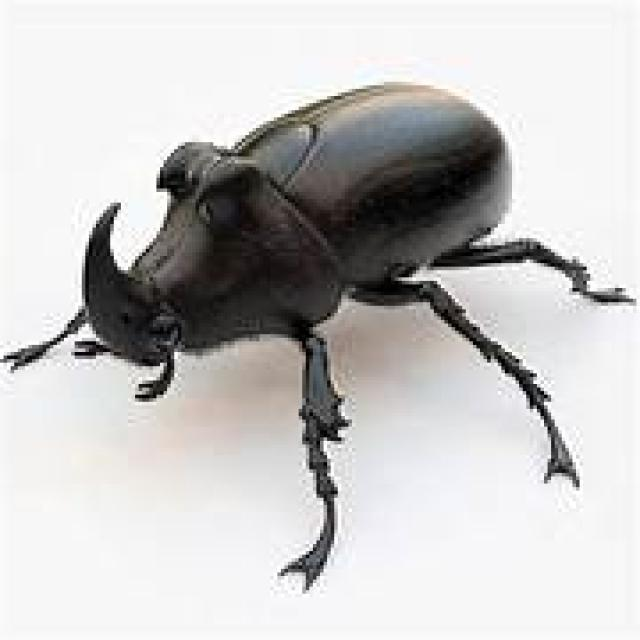Rhino-beetle: (9, 72, 592, 567)
